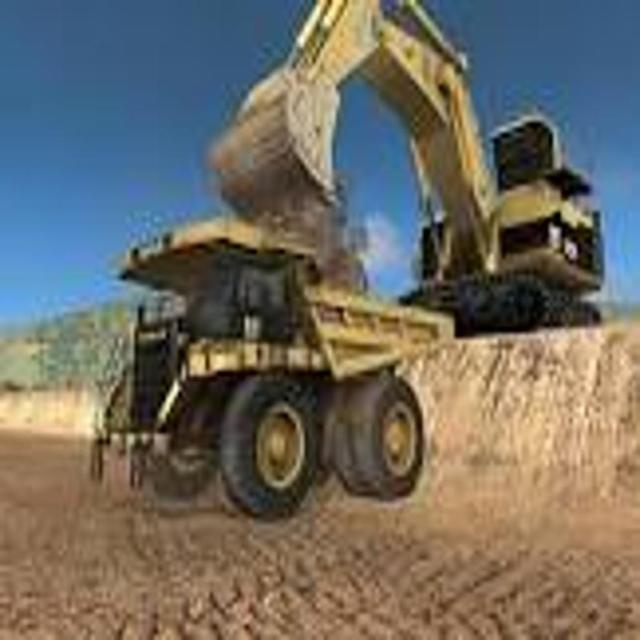dump_truck: (93, 218, 463, 509)
